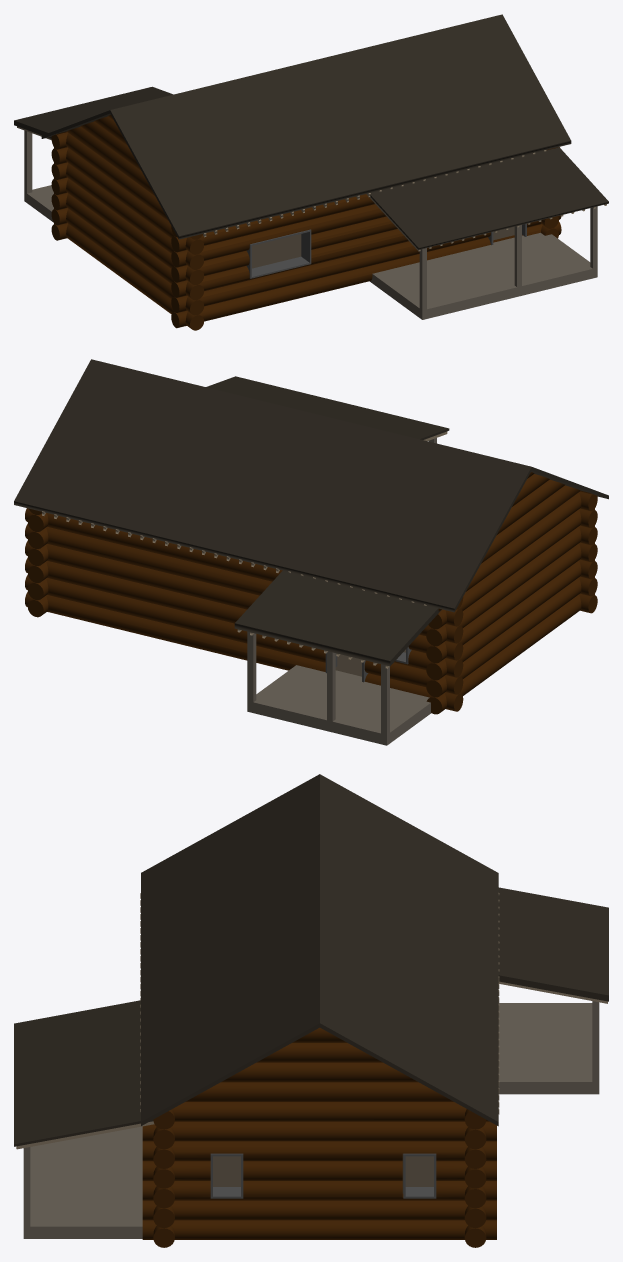
File: Lodge_Final.fbx
3 views of the same model, one above another, from view 1: azimuth 30°, elevation 25°; view 2: azimuth 150°, elevation 25°; view 3: azimuth 270°, elevation 25° (orthographic). The views are drawn at different scales.
Parts seen in each view (by area): view 1: LodgeFina_l; view 2: LodgeFina_l; view 3: LodgeFina_l.
Part boxes in pixels (bbox=[...]): LodgeFina_l: bbox=[14, 14, 608, 330]; LodgeFina_l: bbox=[14, 359, 608, 745]; LodgeFina_l: bbox=[14, 774, 608, 1247].
Bounding box in the file's own units: 17.88 × 7.63 × 18.05.
